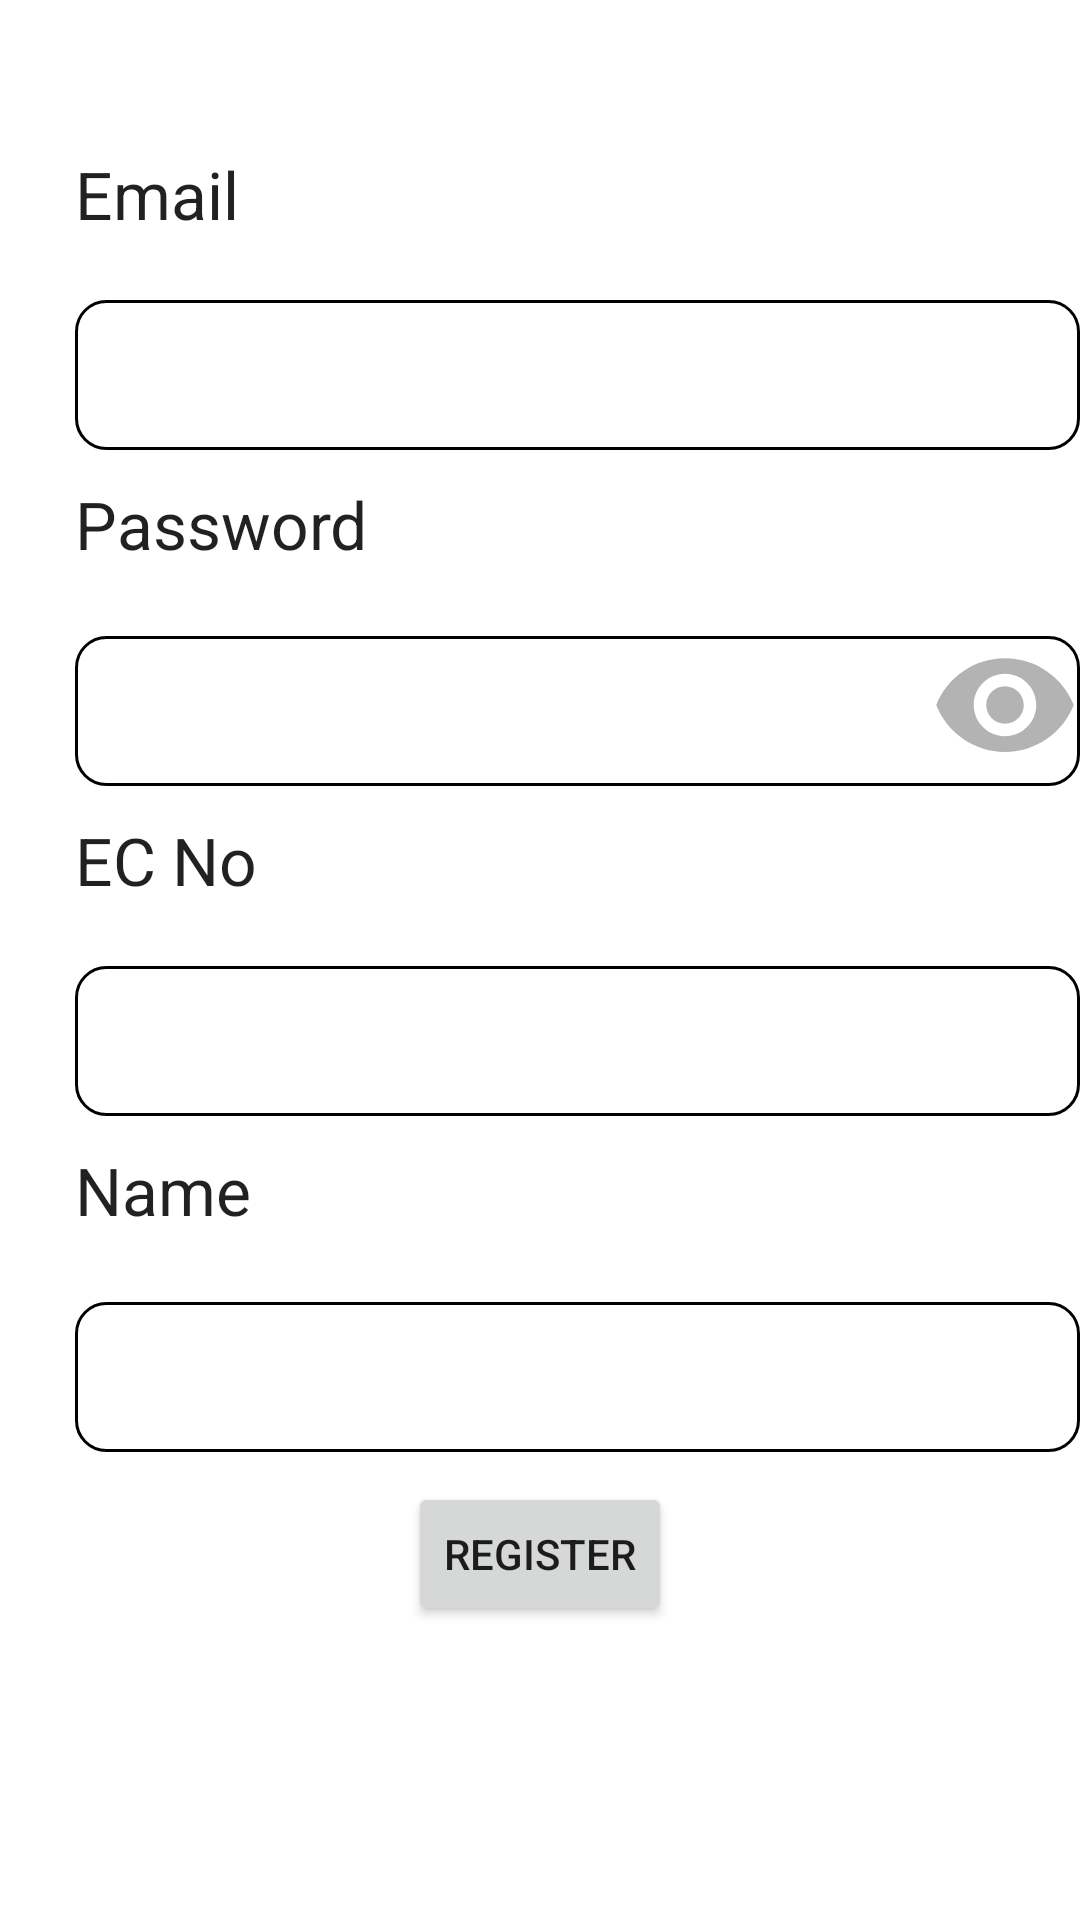

Icon click points for this 1080×1920 phone screenshot, format (x=x, y=y):
show password: (x=1005, y=705)
